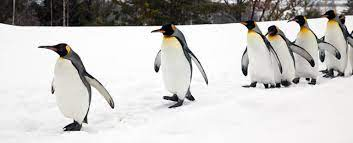Walking: (223, 7, 353, 119), (22, 11, 111, 135), (142, 14, 204, 116)
